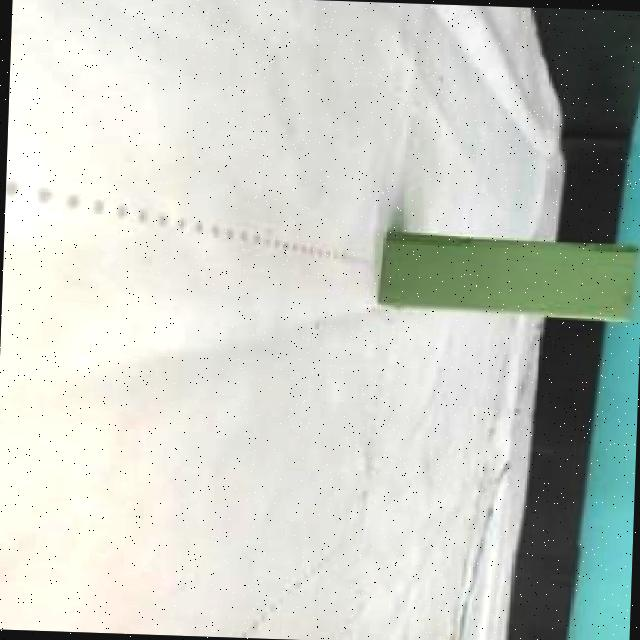greenbox: (378, 227, 640, 322)
